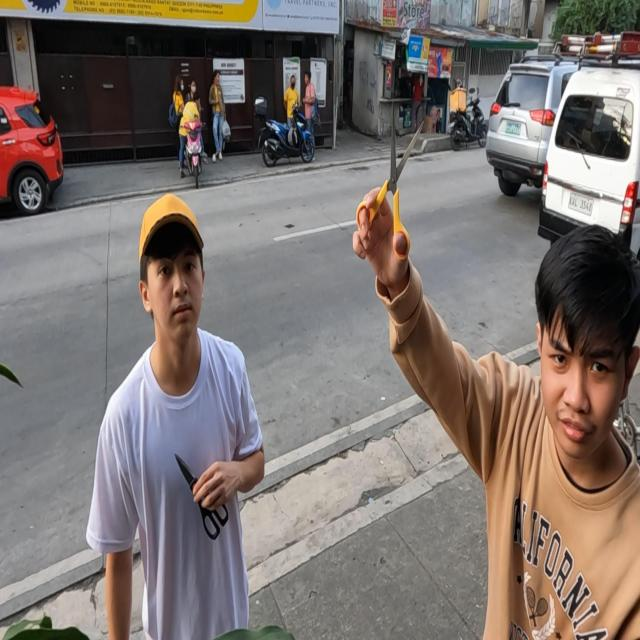scissor: (356, 99, 424, 262), (175, 453, 229, 542)
